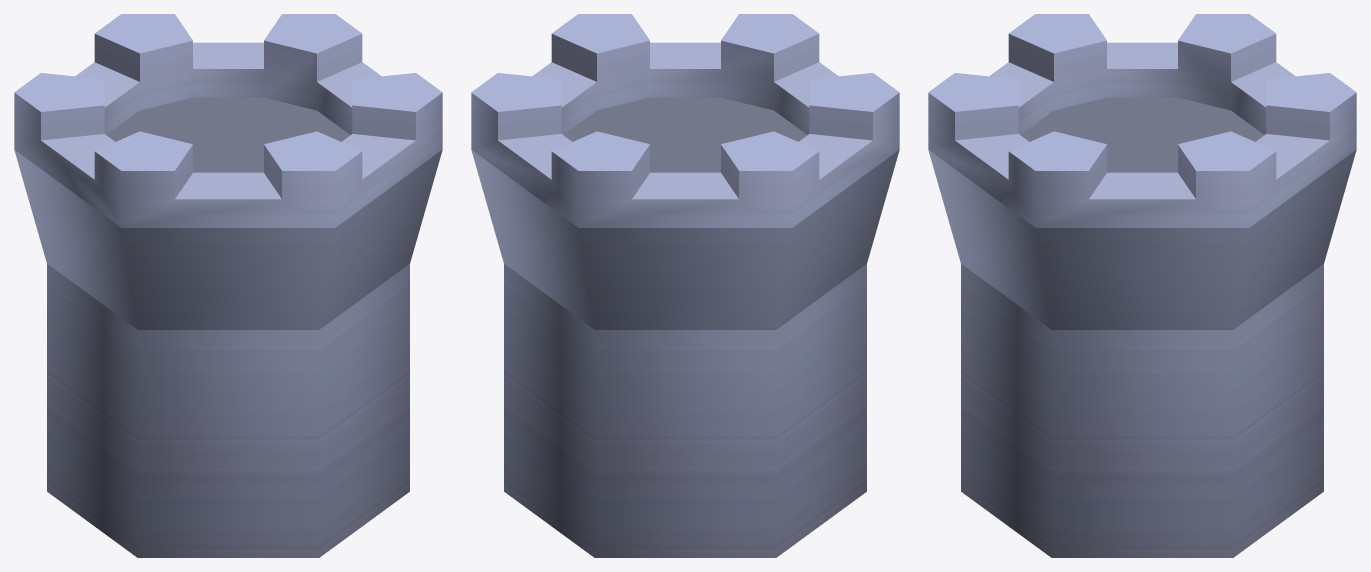
Rendered from unit-wall-tower.glb.
The picture shows the model from 3 angles, left to right: view 1: azimuth 30°, elevation 25°; view 2: azimuth 150°, elevation 25°; view 3: azimuth 270°, elevation 25°; orthographic projection.
Visible parts, largest first — view 1: unit-wall-tower; view 2: unit-wall-tower; view 3: unit-wall-tower.
Boxes of the visible parts, <box> form: unit-wall-tower: <box>14,14,442,557</box>; unit-wall-tower: <box>471,14,899,557</box>; unit-wall-tower: <box>928,14,1356,557</box>.
Size of the model in its own units: 0.295 by 0.35 by 0.3406.
Materials: 1 (1 with a texture image).
